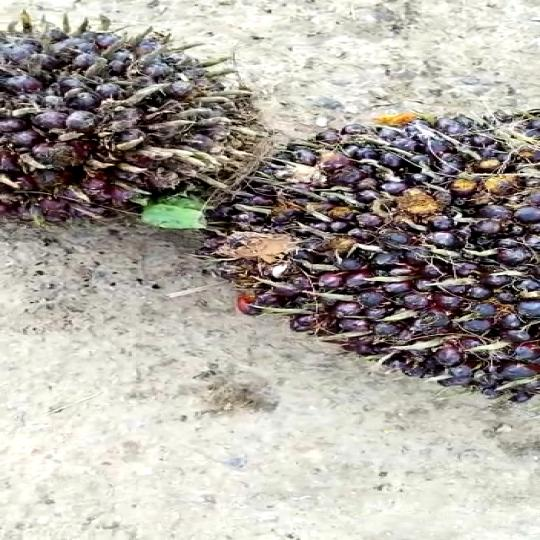kurang masak: (229, 101, 540, 402), (0, 12, 264, 225)
